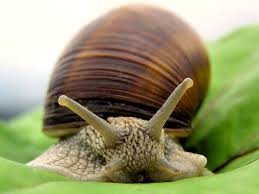snail: (33, 3, 215, 179)
